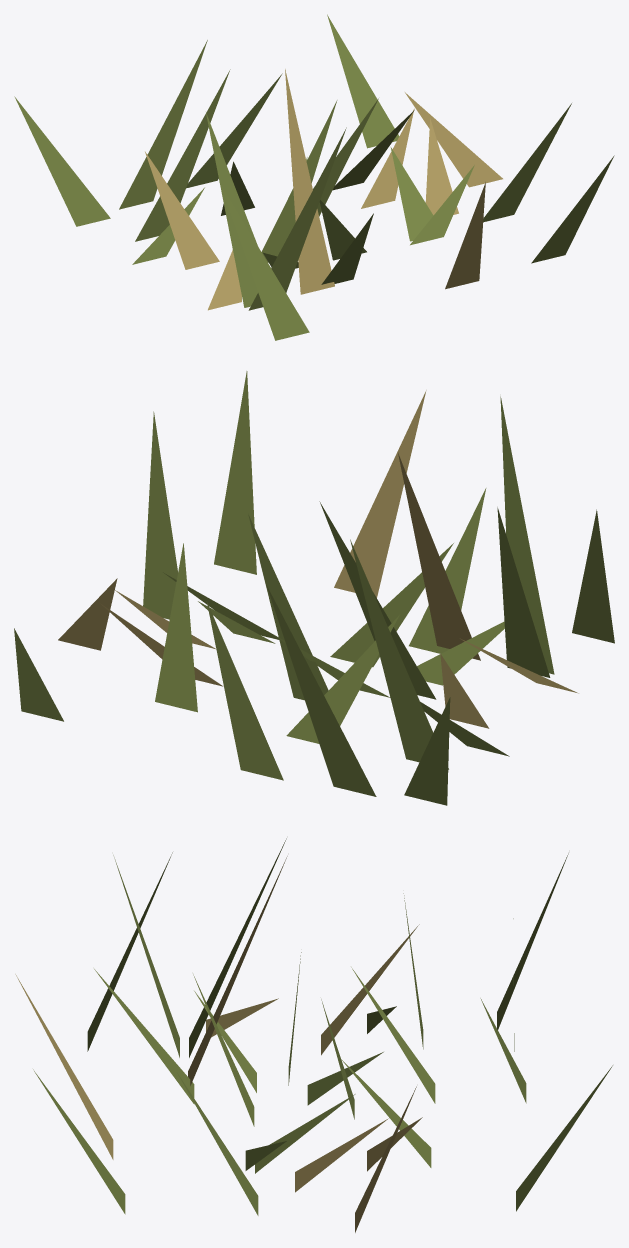
Rendered from grass.glb.
3 renders of one model, top to bottom at view 1: azimuth 30°, elevation 25°; view 2: azimuth 150°, elevation 25°; view 3: azimuth 270°, elevation 25°, orthographic. The views are drawn at different scales.
Visible parts, largest first — view 1: Meadow blades, Dry grass; view 2: Meadow blades, Dry grass; view 3: Meadow blades, Dry grass.
Part boxes in pixels (bbox=[...]): Meadow blades: bbox=[14, 14, 614, 340]; Dry grass: bbox=[145, 69, 502, 310]; Meadow blades: bbox=[14, 371, 614, 805]; Dry grass: bbox=[58, 390, 578, 728]; Meadow blades: bbox=[33, 838, 612, 1215]; Dry grass: bbox=[15, 856, 422, 1232].
Bounding box in the file's own units: 1.4 × 0.6351 × 1.47.
